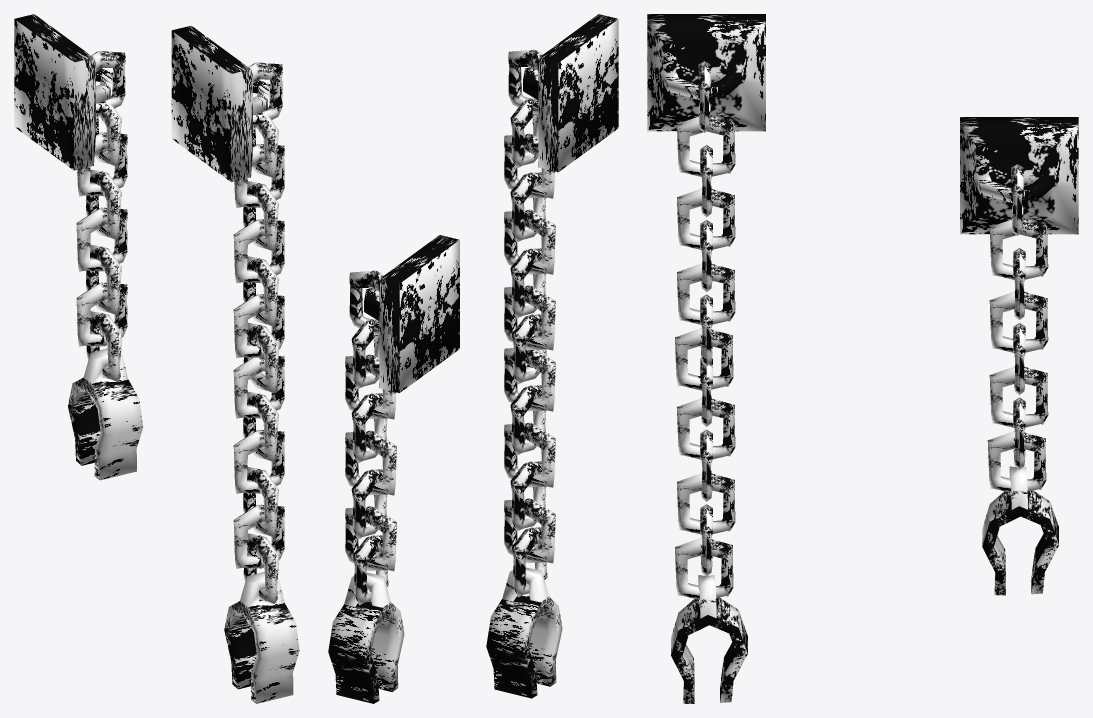
File: Kette_3.fbx
3 views of the same model, side by side, from view 1: azimuth 30°, elevation 25°; view 2: azimuth 150°, elevation 25°; view 3: azimuth 270°, elevation 25° (orthographic).
Visible parts, largest first — view 1: Cube, Cube.025, Cube.007, Cube.026, Cube.006, Cube.021, Cube.010, Cube.015, Cube.002, Cube.016, Cube.009, Cube.005 (+14 smaller); view 2: Cube, Cube.025, Cube.007, Cube.026, Cube.016, Cube.002, Cube.015, Cube.006, Cube.021, Cube.010, Cube.009, Cube.023 (+14 smaller); view 3: Cube, Cube.025, Cube.007, Cube.026, Cube.013, Cube.024, Cube.001, Cube.023, Cube.022, Cube.011, Cube.003, Cube.012 (+14 smaller).
Boxes of the visible parts, <box> form: Cube: <box>171,25,270,181</box>; Cube.025: <box>14,14,113,170</box>; Cube.007: <box>224,572,299,703</box>; Cube.026: <box>68,348,143,480</box>; Cube.006: <box>233,219,284,283</box>; Cube.021: <box>76,207,127,271</box>; Cube.010: <box>233,429,284,493</box>; Cube.015: <box>233,294,284,358</box>; Cube.002: <box>233,504,284,568</box>; Cube.016: <box>76,282,127,346</box>; Cube.009: <box>233,356,284,418</box>; Cube.005: <box>243,256,278,326</box>; Cube: <box>523,14,618,172</box>; Cube.025: <box>364,235,459,392</box>; Cube.007: <box>486,567,562,698</box>; Cube.026: <box>328,573,404,703</box>; Cube.016: <box>345,506,396,571</box>; Cube.002: <box>504,498,555,563</box>; Cube.015: <box>504,285,555,350</box>; Cube.006: <box>504,209,555,274</box>; Cube.021: <box>345,430,396,495</box>; Cube.010: <box>504,422,555,487</box>; Cube.009: <box>504,348,555,411</box>; Cube.023: <box>351,393,387,463</box>; Cube: <box>647,14,765,131</box>; Cube.025: <box>960,117,1078,234</box>; Cube.007: <box>671,575,747,703</box>; Cube.026: <box>982,466,1058,595</box>; Cube.013: <box>675,328,733,390</box>; Cube.024: <box>989,218,1048,279</box>; Cube.001: <box>677,115,735,176</box>; Cube.023: <box>989,291,1048,352</box>; Cube.022: <box>989,366,1048,427</box>; Cube.011: <box>677,473,735,534</box>; Cube.003: <box>677,188,735,249</box>; Cube.012: <box>677,398,735,459</box>.
Bounding box in the file's own units: 6.61 × 49.53 × 29.77.
